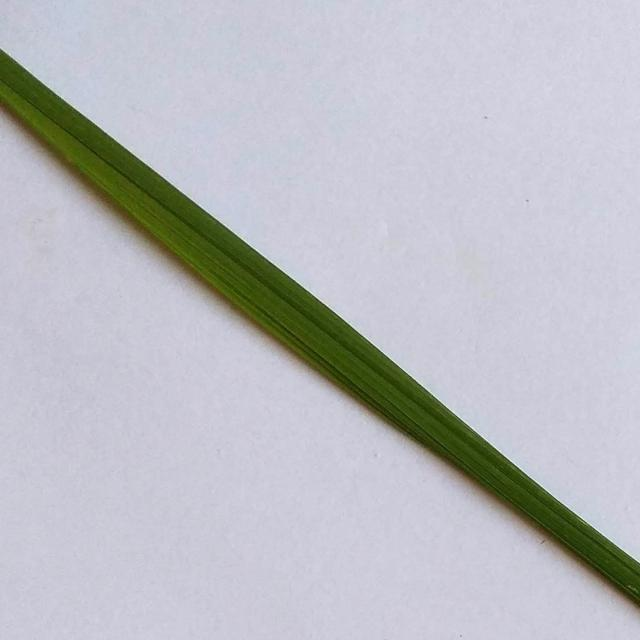Rice_Healthy: (0, 50, 640, 605)
